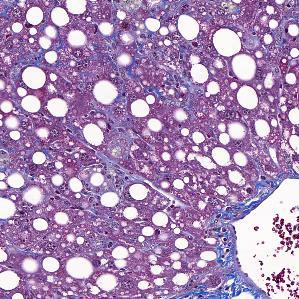fibrosis: (98, 130, 157, 188), (209, 210, 243, 274)
